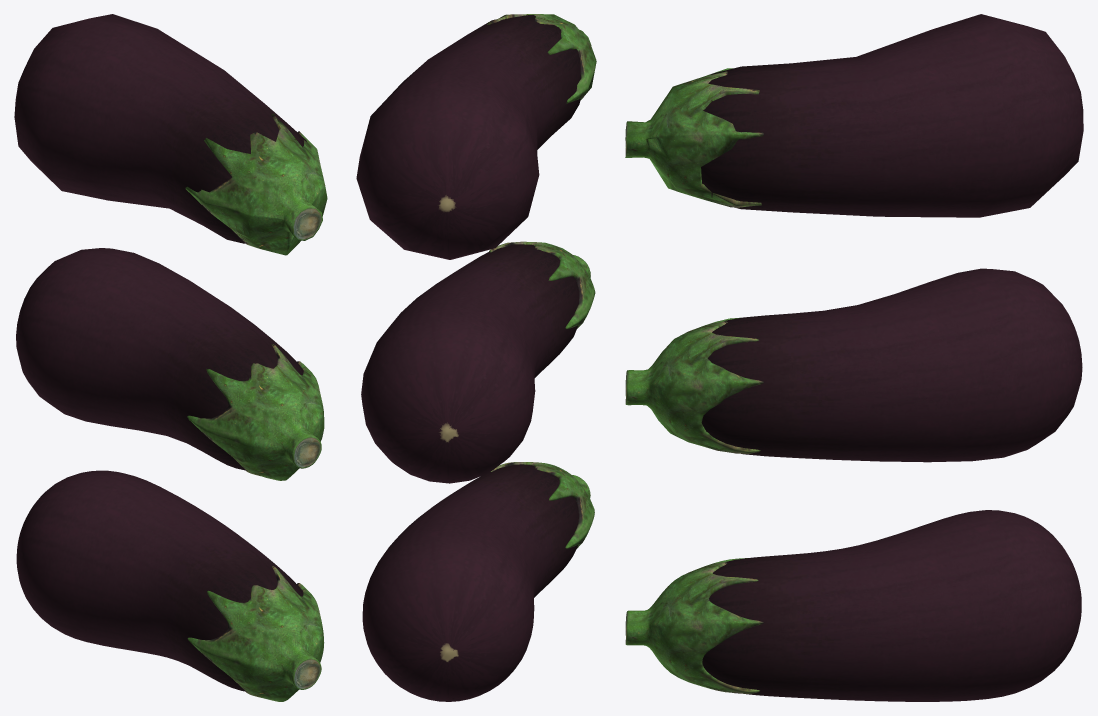
The model's file is Eggplant.obj.
The picture shows the model from 3 angles, left to right: view 1: azimuth 30°, elevation 25°; view 2: azimuth 150°, elevation 25°; view 3: azimuth 270°, elevation 25°; orthographic projection. The views are drawn at different scales.
Parts seen in each view (by area): view 1: Eggplant_03, Eggplant_02, Eggplant_01; view 2: Eggplant_03, Eggplant_02, Eggplant_01; view 3: Eggplant_03, Eggplant_02, Eggplant_01.
Part boxes in pixels (x1,y1,x2,y2): Eggplant_03: (14, 14, 327, 255); Eggplant_02: (16, 248, 324, 480); Eggplant_01: (16, 470, 324, 701); Eggplant_03: (356, 14, 596, 259); Eggplant_02: (361, 241, 595, 483); Eggplant_01: (362, 462, 594, 701); Eggplant_03: (625, 14, 1083, 217); Eggplant_02: (625, 268, 1082, 462); Eggplant_01: (625, 510, 1081, 701).
Size of the model in its own units: 85.49 by 278 by 174.
